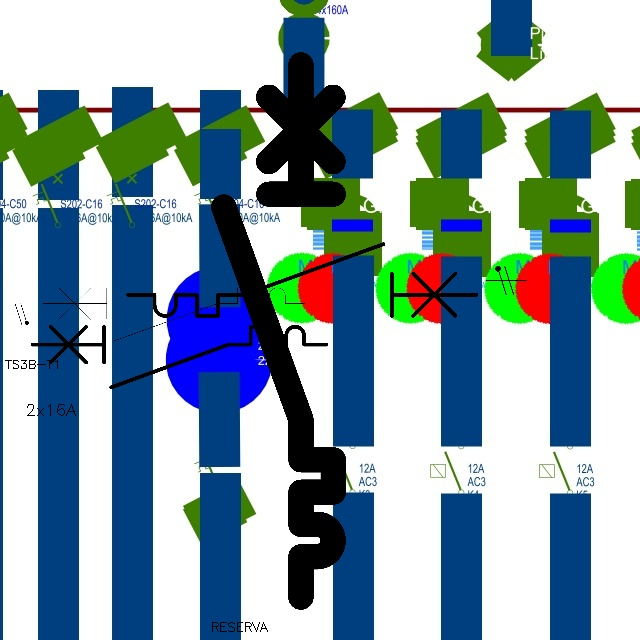interruptor_termomagnetico: (210, 51, 347, 611), (119, 235, 485, 325), (25, 319, 334, 394), (36, 281, 312, 348)
